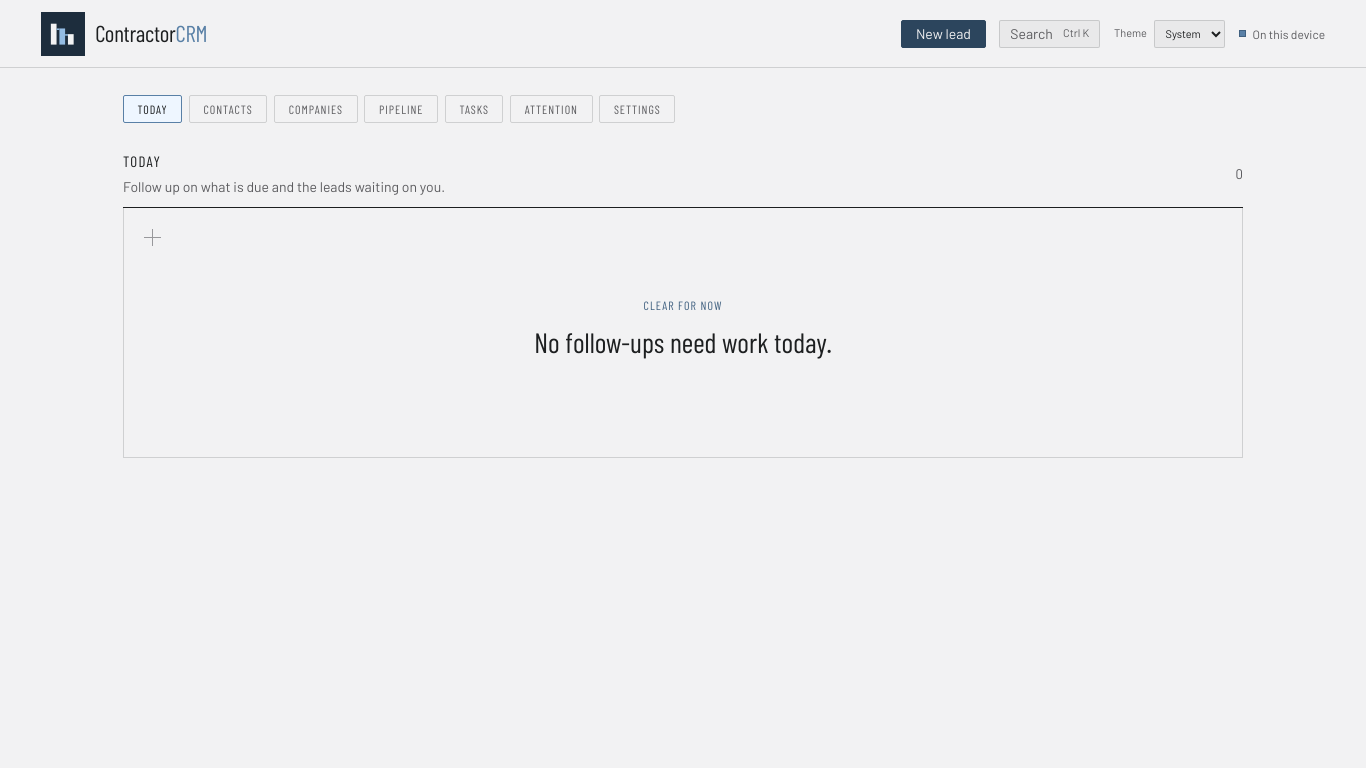
tasks view › shows and clears a due-date control only after the user requests it
The image size is (1366, 768).
Click the button "Tasks" at (474, 109), box [445,95,503,123]
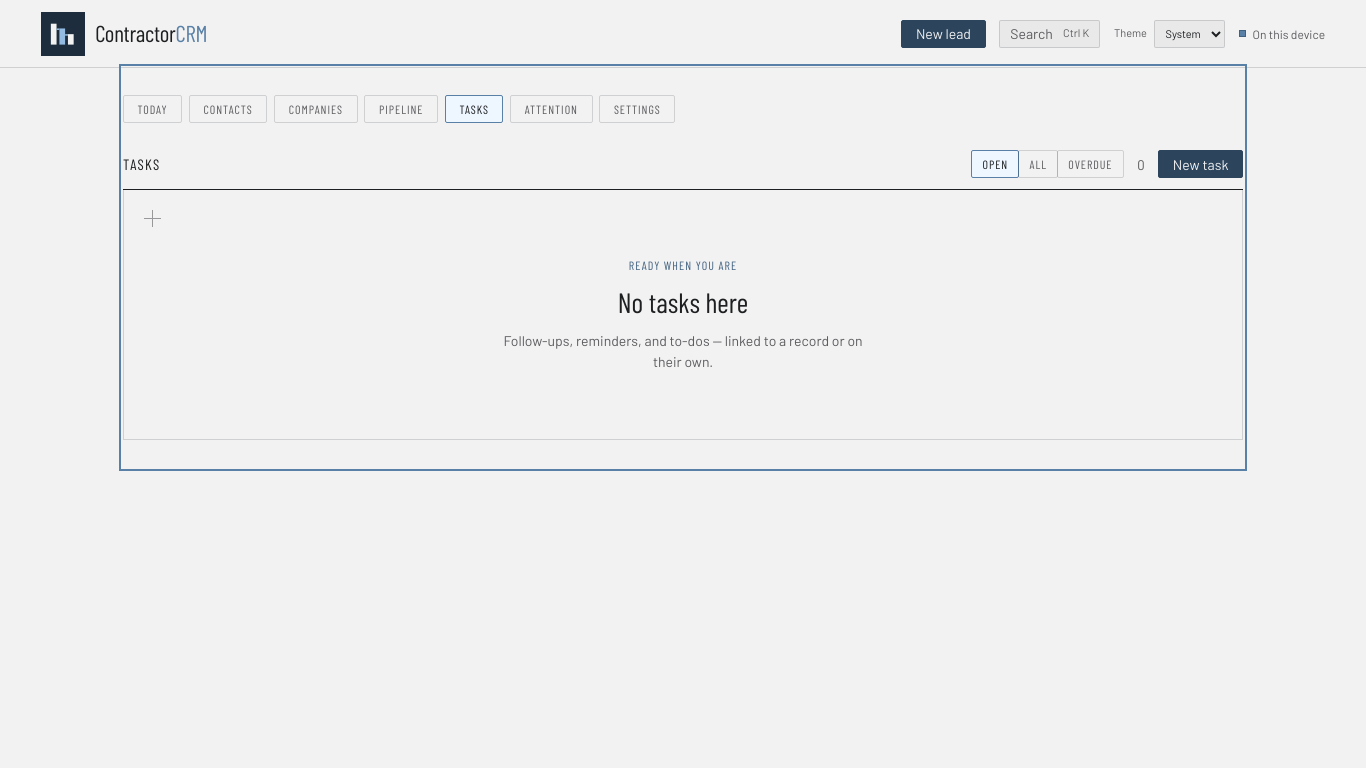
Click the button "New task" at (1201, 164), box [1158,150,1243,178]
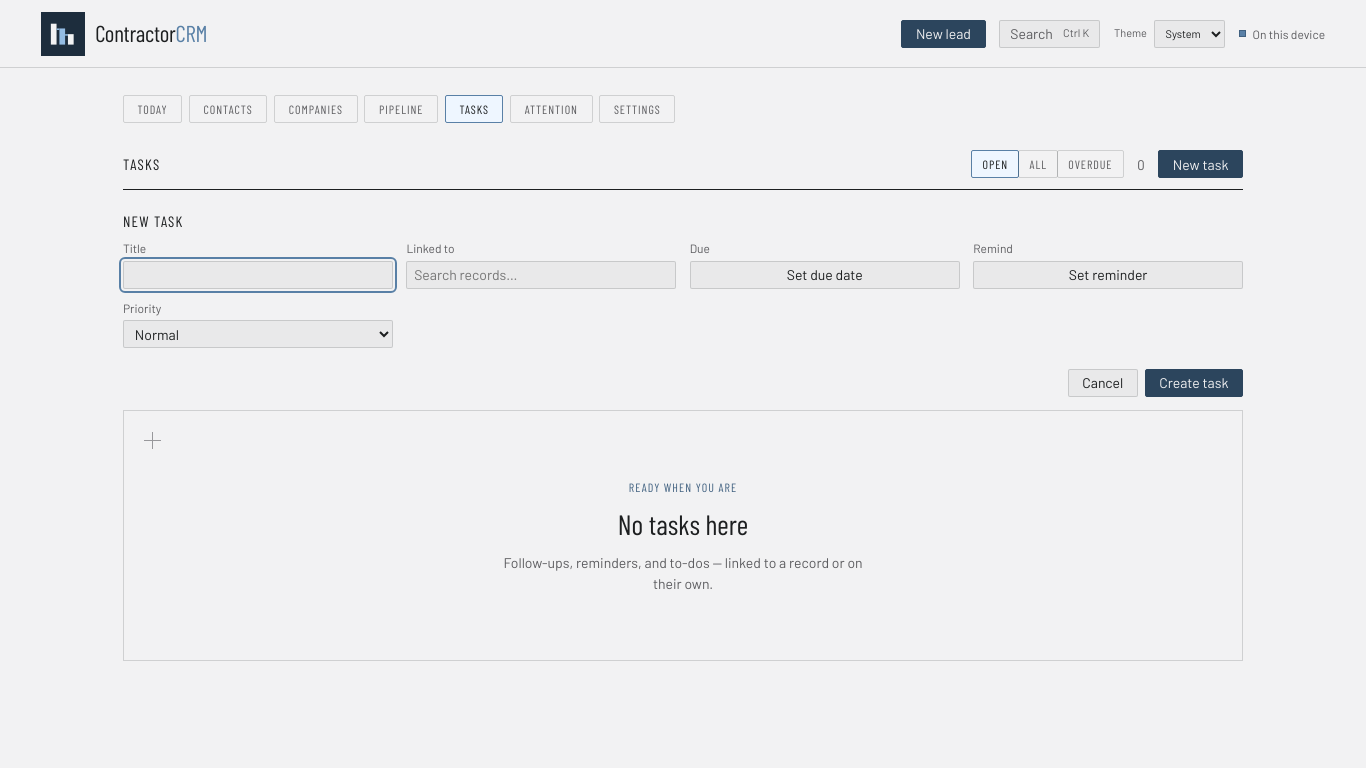
Click the button "Set due date" at (825, 275), box [690,261,960,289]
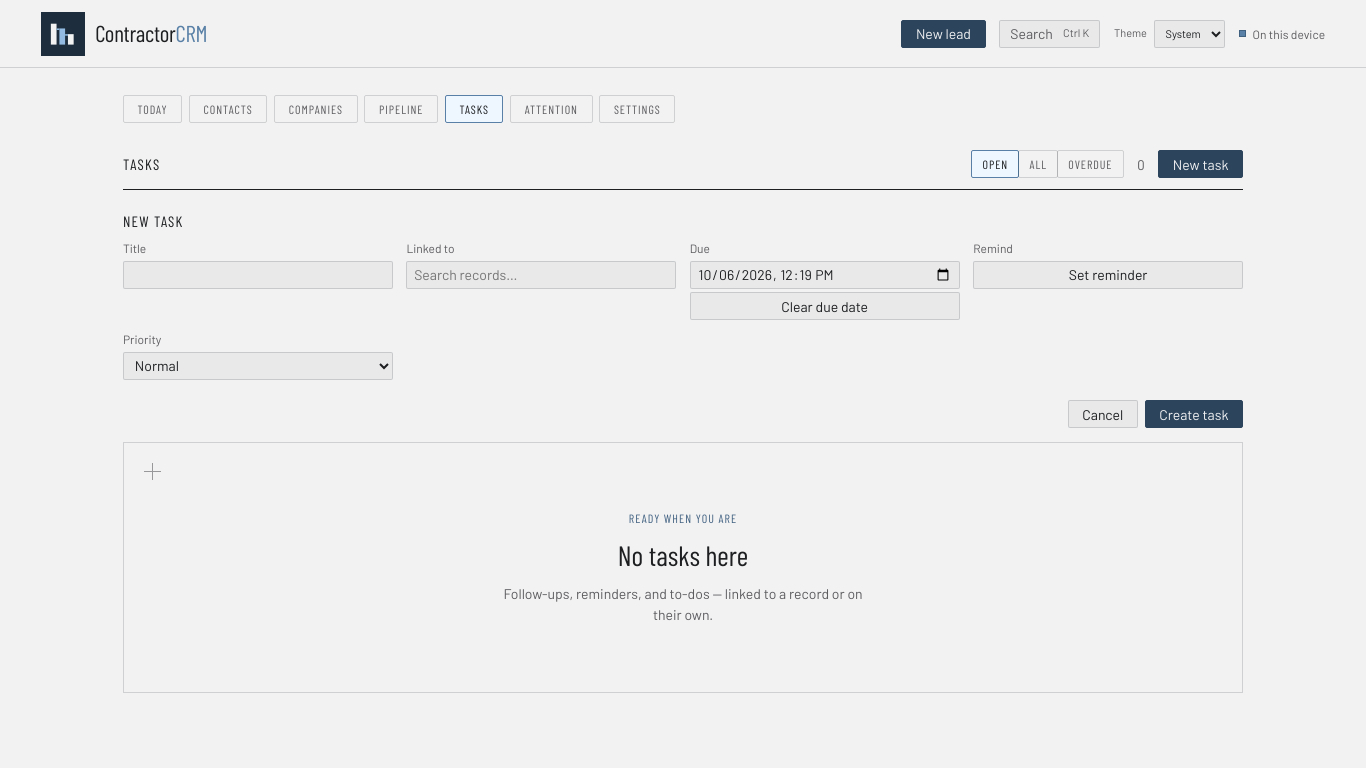
Result: the field labelled "Due Clear due date" is not empty at [690,261,960,289]
Click the button "Clear due date" at (825, 306), box [690,292,960,320]
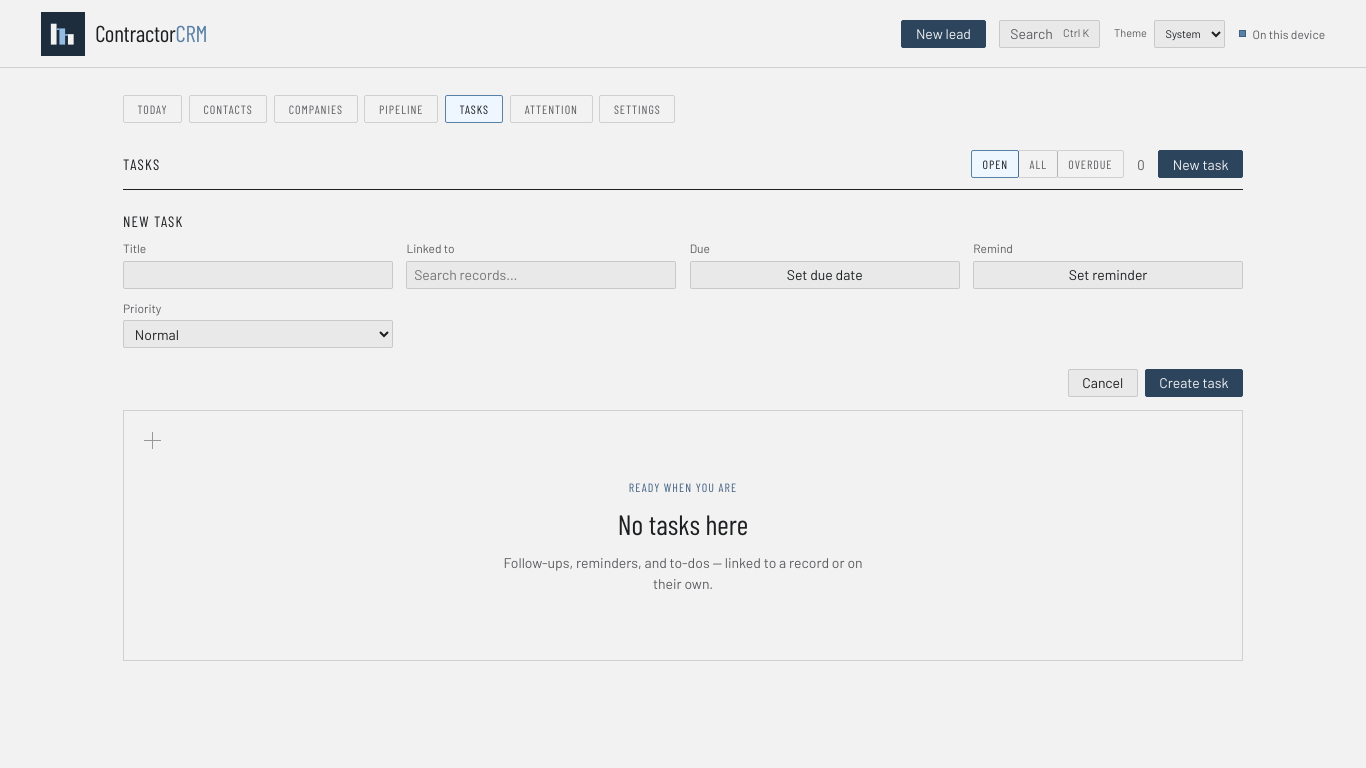
Result: the field is gone
